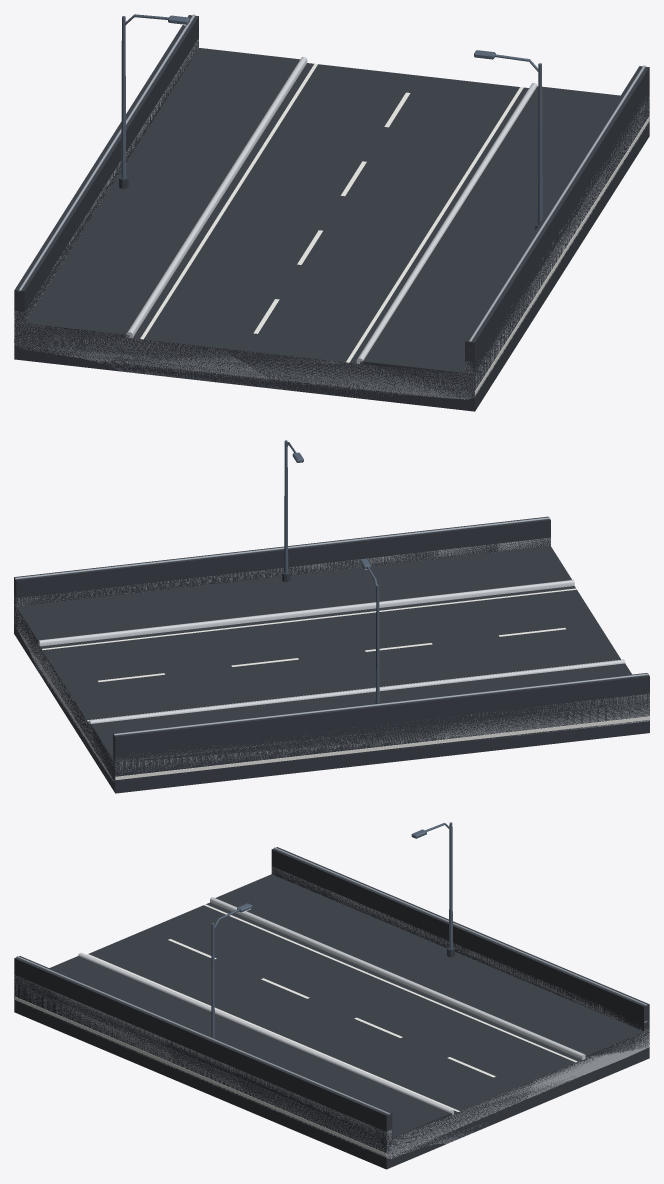
Rendered from ponte_diagonal_vao_rua.glb.
The picture shows the model from 3 angles, top to bottom: view 1: azimuth 30°, elevation 25°; view 2: azimuth 150°, elevation 25°; view 3: azimuth 270°, elevation 25°; orthographic projection. The views are drawn at different scales.
Visible parts, largest first — view 1: colisao_tabuleiro, ponte_diagonal_vao_rua; view 2: colisao_tabuleiro, ponte_diagonal_vao_rua; view 3: colisao_tabuleiro, ponte_diagonal_vao_rua.
Part boxes in pixels (<box>): colisao_tabuleiro: <box>14,15,649,411</box>; ponte_diagonal_vao_rua: <box>14,14,649,399</box>; colisao_tabuleiro: <box>14,516,649,793</box>; ponte_diagonal_vao_rua: <box>14,440,649,781</box>; colisao_tabuleiro: <box>14,847,649,1169</box>; ponte_diagonal_vao_rua: <box>14,822,649,1158</box>.
Size of the model in its own units: 25.62 by 7.38 by 25.62.
2 materials, 1 textured.
